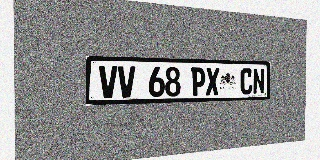6: (149, 66, 165, 97)
8: (165, 67, 180, 97)
C: (240, 68, 253, 95)
N: (253, 68, 265, 94)
P: (191, 67, 205, 96)
V: (99, 66, 117, 98), (118, 66, 135, 98)
X: (206, 67, 219, 96)
